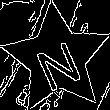N_NW: (29, 28, 85, 90)
